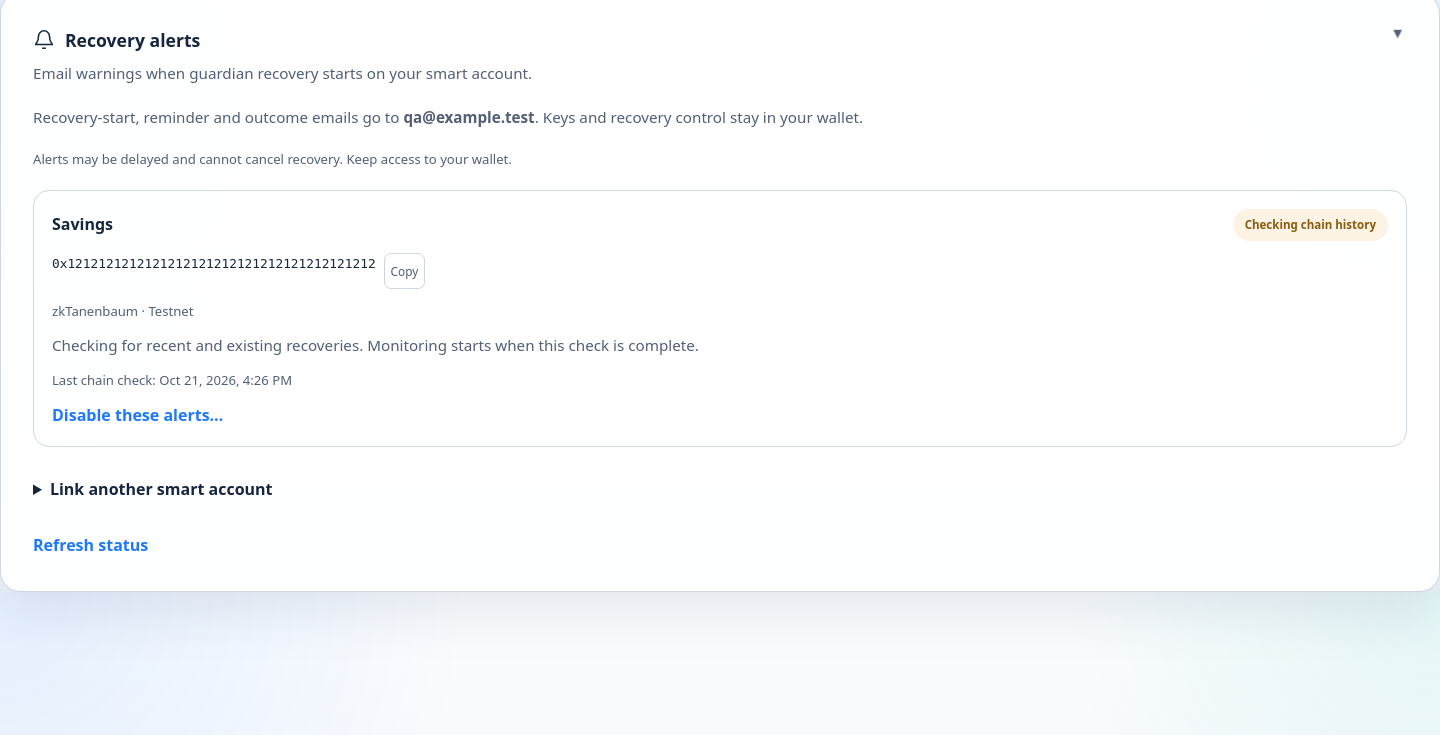
Test: disabling requires password and TOTP and identifies the exact account
Expected: the heading "Savings" is shown, x1=52 y1=214 x2=113 y2=236
Step 1. Click the button "Disable these alerts…" → (138,416), box x1=52 y1=403 x2=223 y2=428
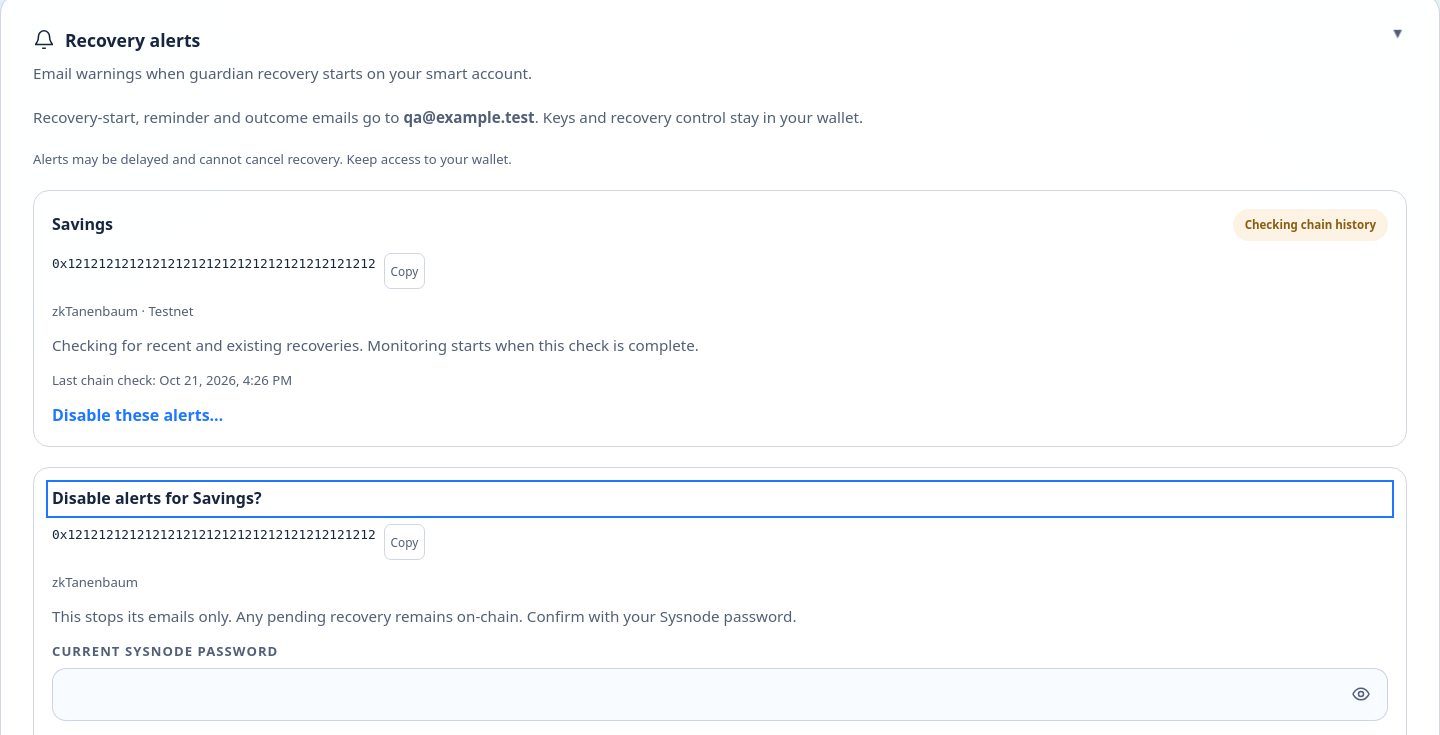
Expected: the heading "Disable alerts for Savings?" is shown, x1=52 y1=487 x2=262 y2=509
Step 2. Type "correct-password" into the password field labelled "Current Sysnode password" → (720,694), box x1=52 y1=668 x2=1388 y2=721
(page scrolled)
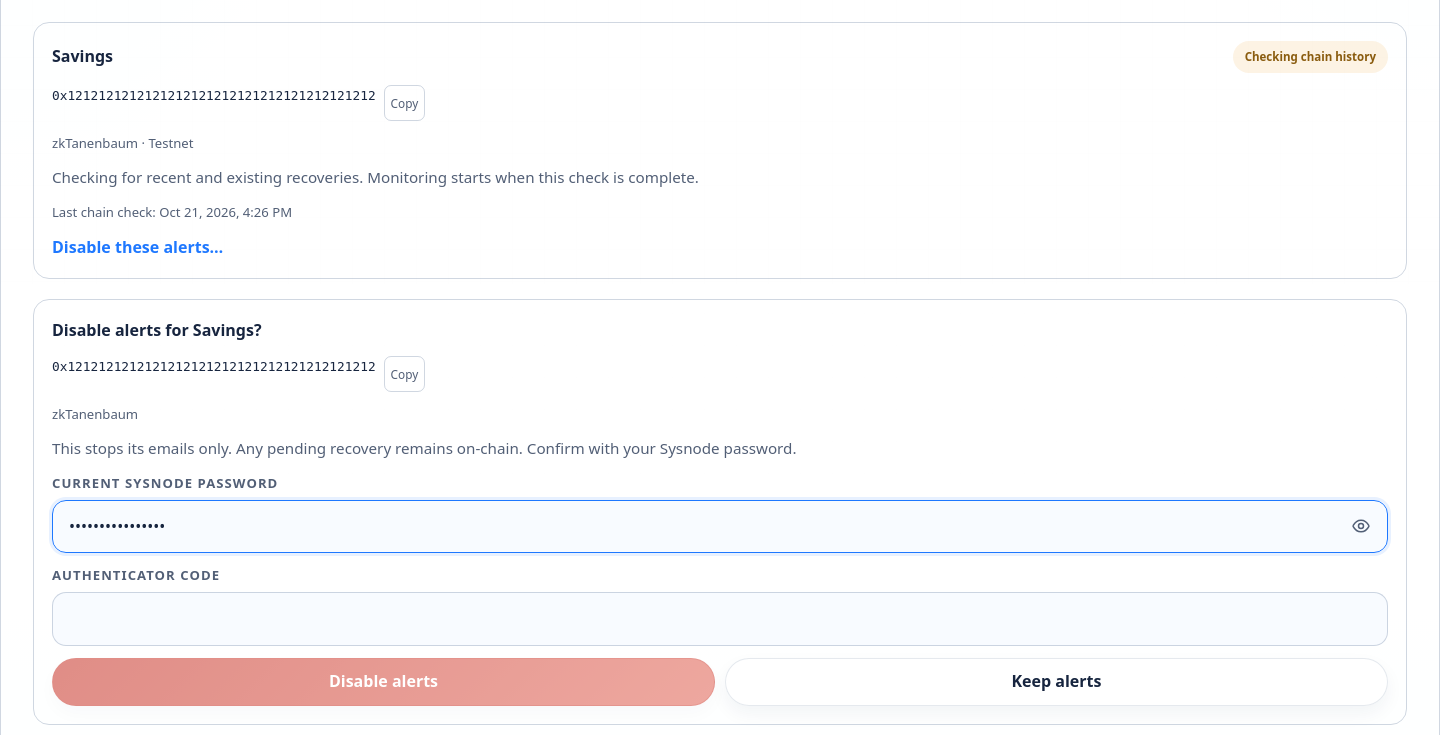
Step 3. Type "123456" into the field labelled "Authenticator code" → (720,619), box x1=52 y1=592 x2=1388 y2=646
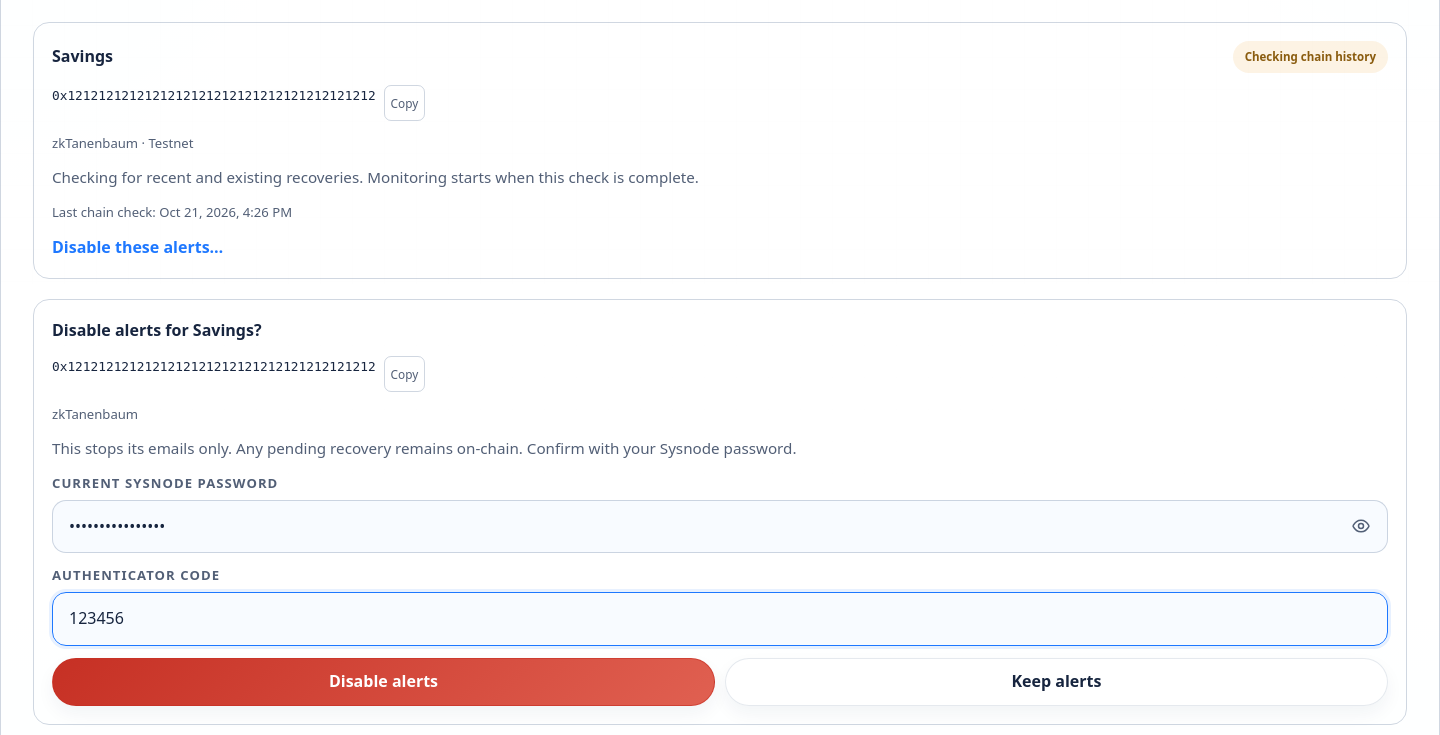
Step 4. Click the button "Disable alerts" → (384,682), box x1=52 y1=658 x2=715 y2=706
(page scrolled)
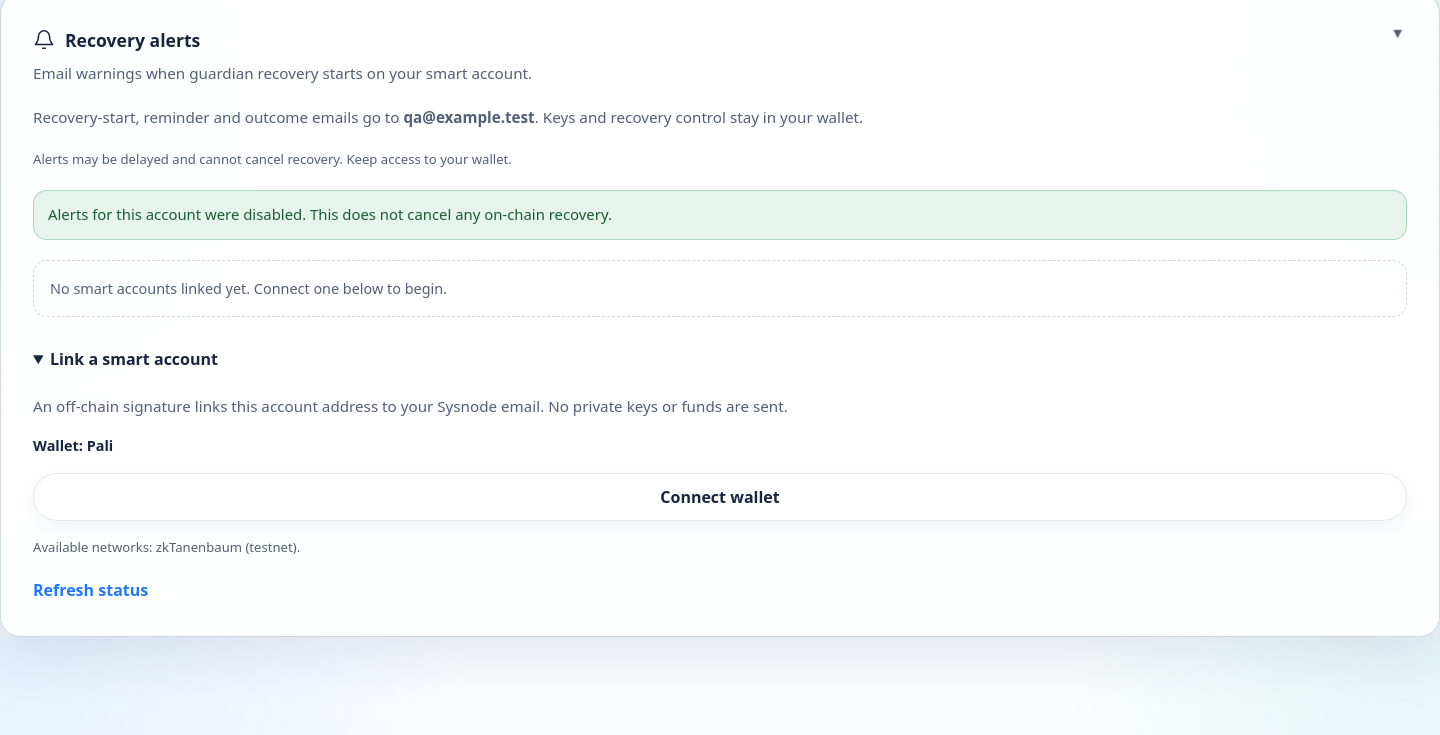
Expected: the text "This does not cancel any on-chain recovery" is shown, x1=48 y1=204 x2=612 y2=224
Expected: the label labelled "Current Sysnode password" is gone
